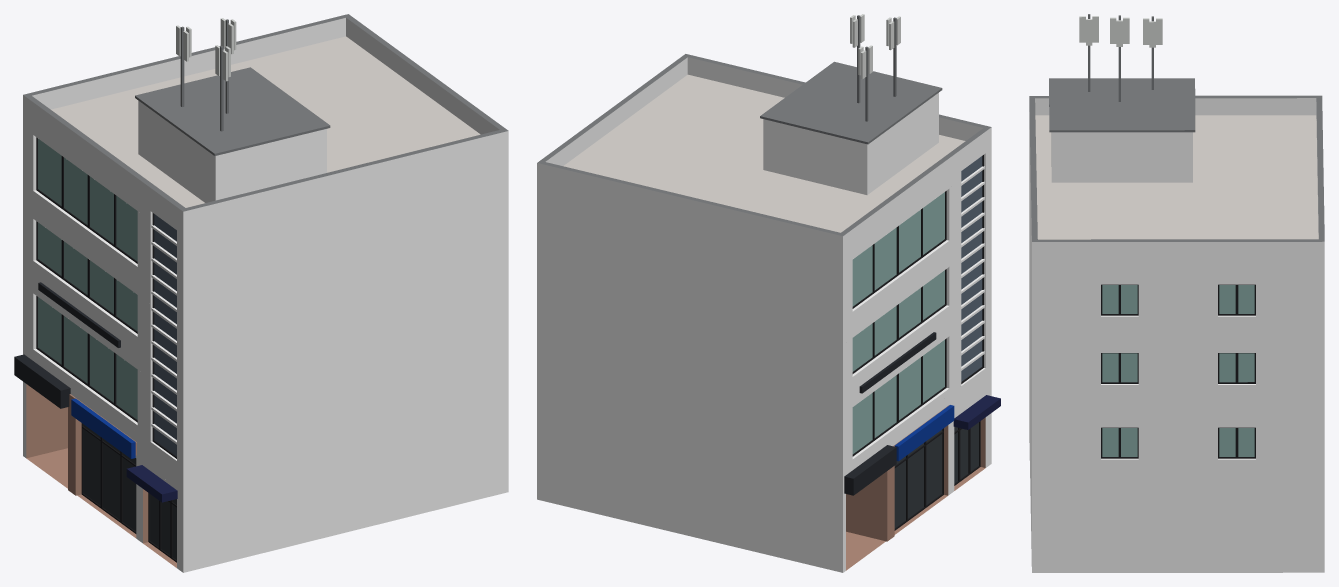
File: einstein116.glb
3 views of the same model, side by side, from view 1: azimuth 30°, elevation 25°; view 2: azimuth 150°, elevation 25°; view 3: azimuth 270°, elevation 25° (orthographic). The views are drawn at different scales.
Parts seen in each view (by area): view 1: Einstein116; view 2: Einstein116; view 3: Einstein116.
Boxes of the visible parts, x1=… form: Einstein116: x1=14, y1=14, x2=508, y2=572; Einstein116: x1=537, y1=14, x2=1000, y2=572; Einstein116: x1=1029, y1=14, x2=1324, y2=572.
Bounding box in the file's own units: 15.38 × 21.2 × 12.55.
